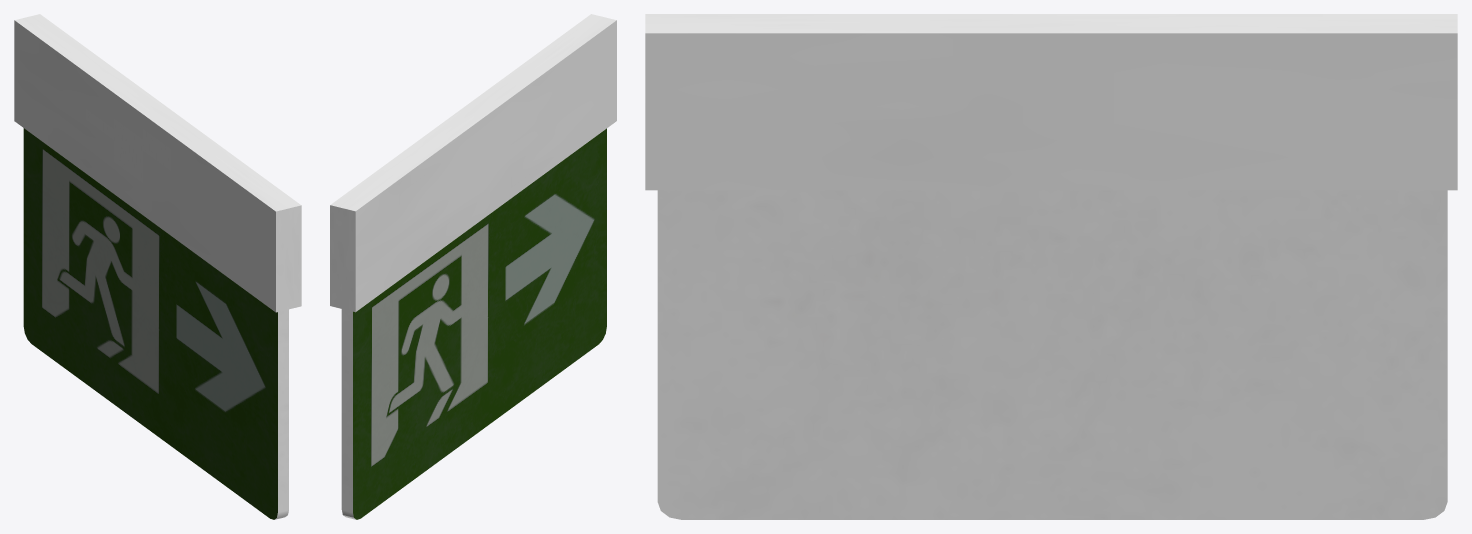
The model's file is Exit sign.fbx.
The picture shows the model from 3 angles, left to right: view 1: azimuth 30°, elevation 25°; view 2: azimuth 150°, elevation 25°; view 3: azimuth 270°, elevation 25°; orthographic projection. The views are drawn at different scales.
Parts seen in each view (by area): view 1: pCube11, pCube12; view 2: pCube11, pCube12; view 3: pCube11, pCube12.
Part boxes in pixels (x1,y1,x2,y2): pCube11: (23, 128, 288, 519); pCube12: (14, 14, 301, 312); pCube11: (341, 128, 606, 519); pCube12: (330, 14, 616, 312); pCube11: (657, 190, 1447, 519); pCube12: (645, 14, 1457, 190).
Size of the model in its own units: 0.0708 by 0.8382 by 1.25.
Materials: 1 (1 with a texture image).
